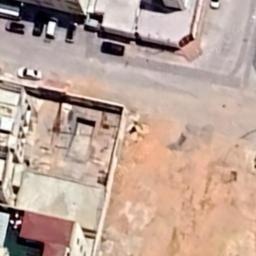SUV: (2, 20, 26, 34)
sedan: (16, 66, 42, 80), (32, 14, 46, 36)
unknown: (100, 40, 126, 58), (66, 21, 78, 43)
van: (44, 16, 60, 39)
